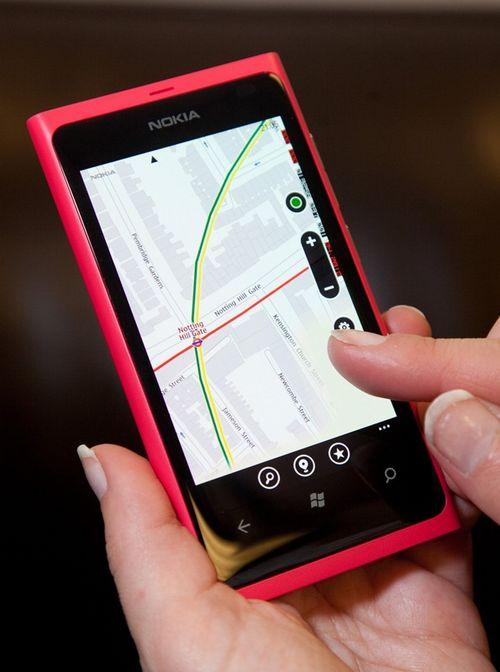phone: (27, 53, 453, 580)
